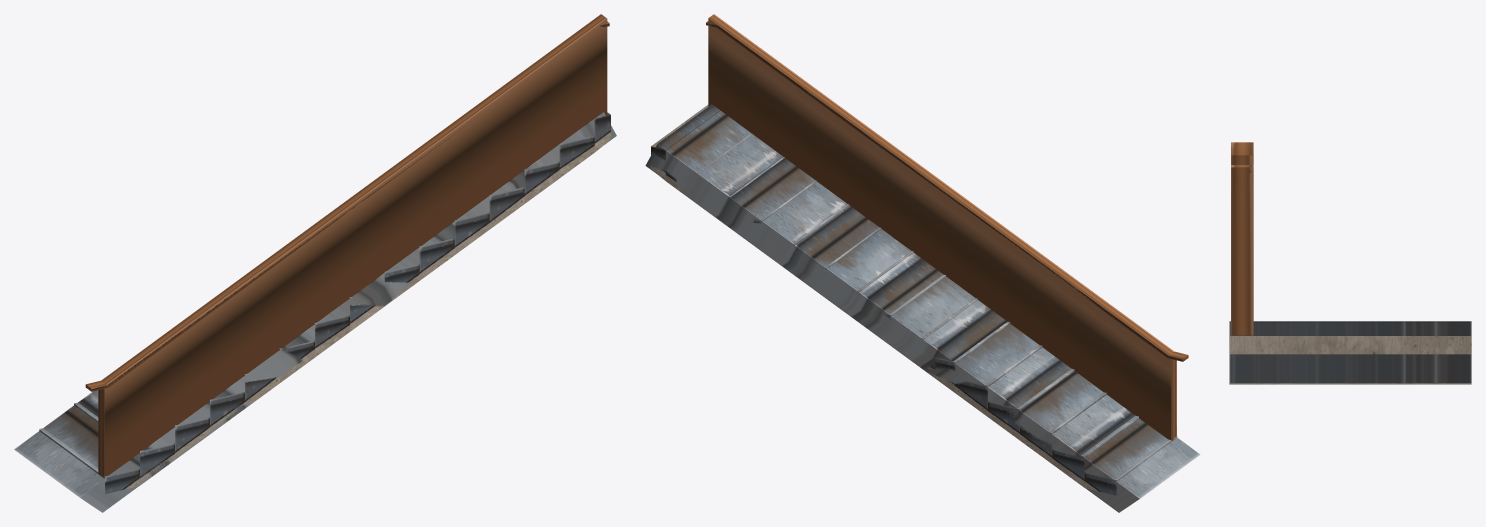
File: stairs03_D_right.FBX
3 renders of one model, left to right at view 1: azimuth 30°, elevation 25°; view 2: azimuth 150°, elevation 25°; view 3: azimuth 270°, elevation 25°, orthographic. The views are drawn at different scales.
Parts seen in each view (by area): view 1: stairs03_D_right_rail_COL, stairs03_D_right, stairs03_D_right_COL, stairs03_D_right_rail; view 2: stairs03_D_right_COL, stairs03_D_right_rail_COL, stairs03_D_right, stairs03_D_right_rail; view 3: stairs03_D_right_COL, stairs03_D_right, stairs03_D_right_rail_COL, stairs03_D_right_rail.
Boxes of the visible parts, box(x1,y1,x2,y2) form: stairs03_D_right_rail_COL: box(98, 14, 607, 477); stairs03_D_right: box(39, 112, 610, 494); stairs03_D_right_COL: box(14, 112, 616, 512); stairs03_D_right_rail: box(85, 21, 609, 391); stairs03_D_right_COL: box(645, 104, 1200, 512); stairs03_D_right_rail_COL: box(708, 14, 1176, 441); stairs03_D_right: box(651, 105, 1177, 495); stairs03_D_right_rail: box(706, 21, 1188, 361); stairs03_D_right_COL: box(1229, 322, 1471, 383); stairs03_D_right: box(1229, 321, 1471, 384); stairs03_D_right_rail_COL: box(1231, 155, 1253, 335); stairs03_D_right_rail: box(1231, 142, 1253, 172).
Size of the model in its own units: 658 by 434 by 140.
